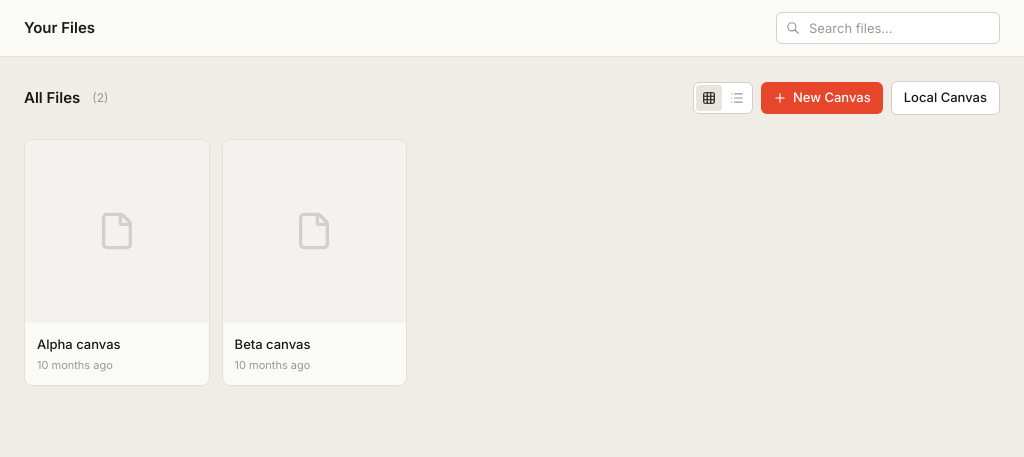
Test: DashboardFiles — create › surfaces a rejected create and leaves the list untouched
The image size is (1024, 457).
Click the button "New Canvas" at (822, 98), box [761,82,883,114]
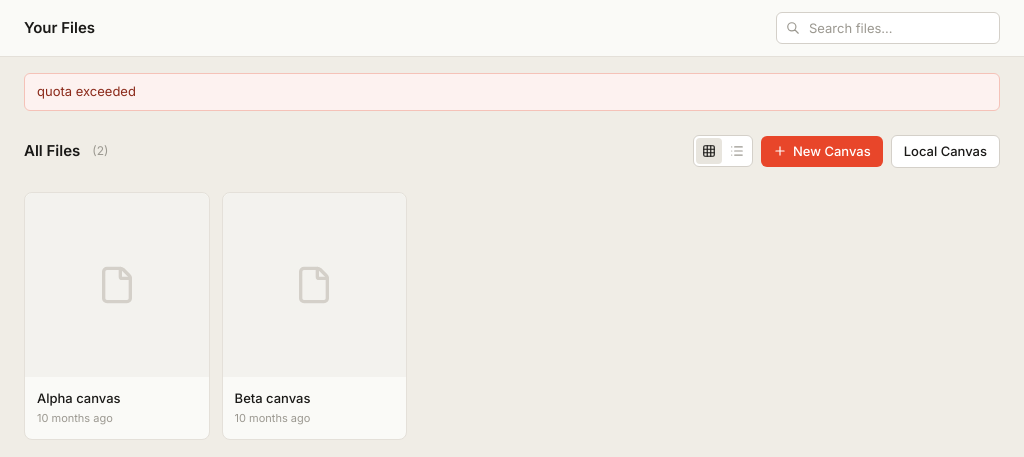
Check: the link "Alpha canvas" is shown, box [24,192,210,440]
Check: the text "quota exceeded" is shown, box [24,73,1000,110]
